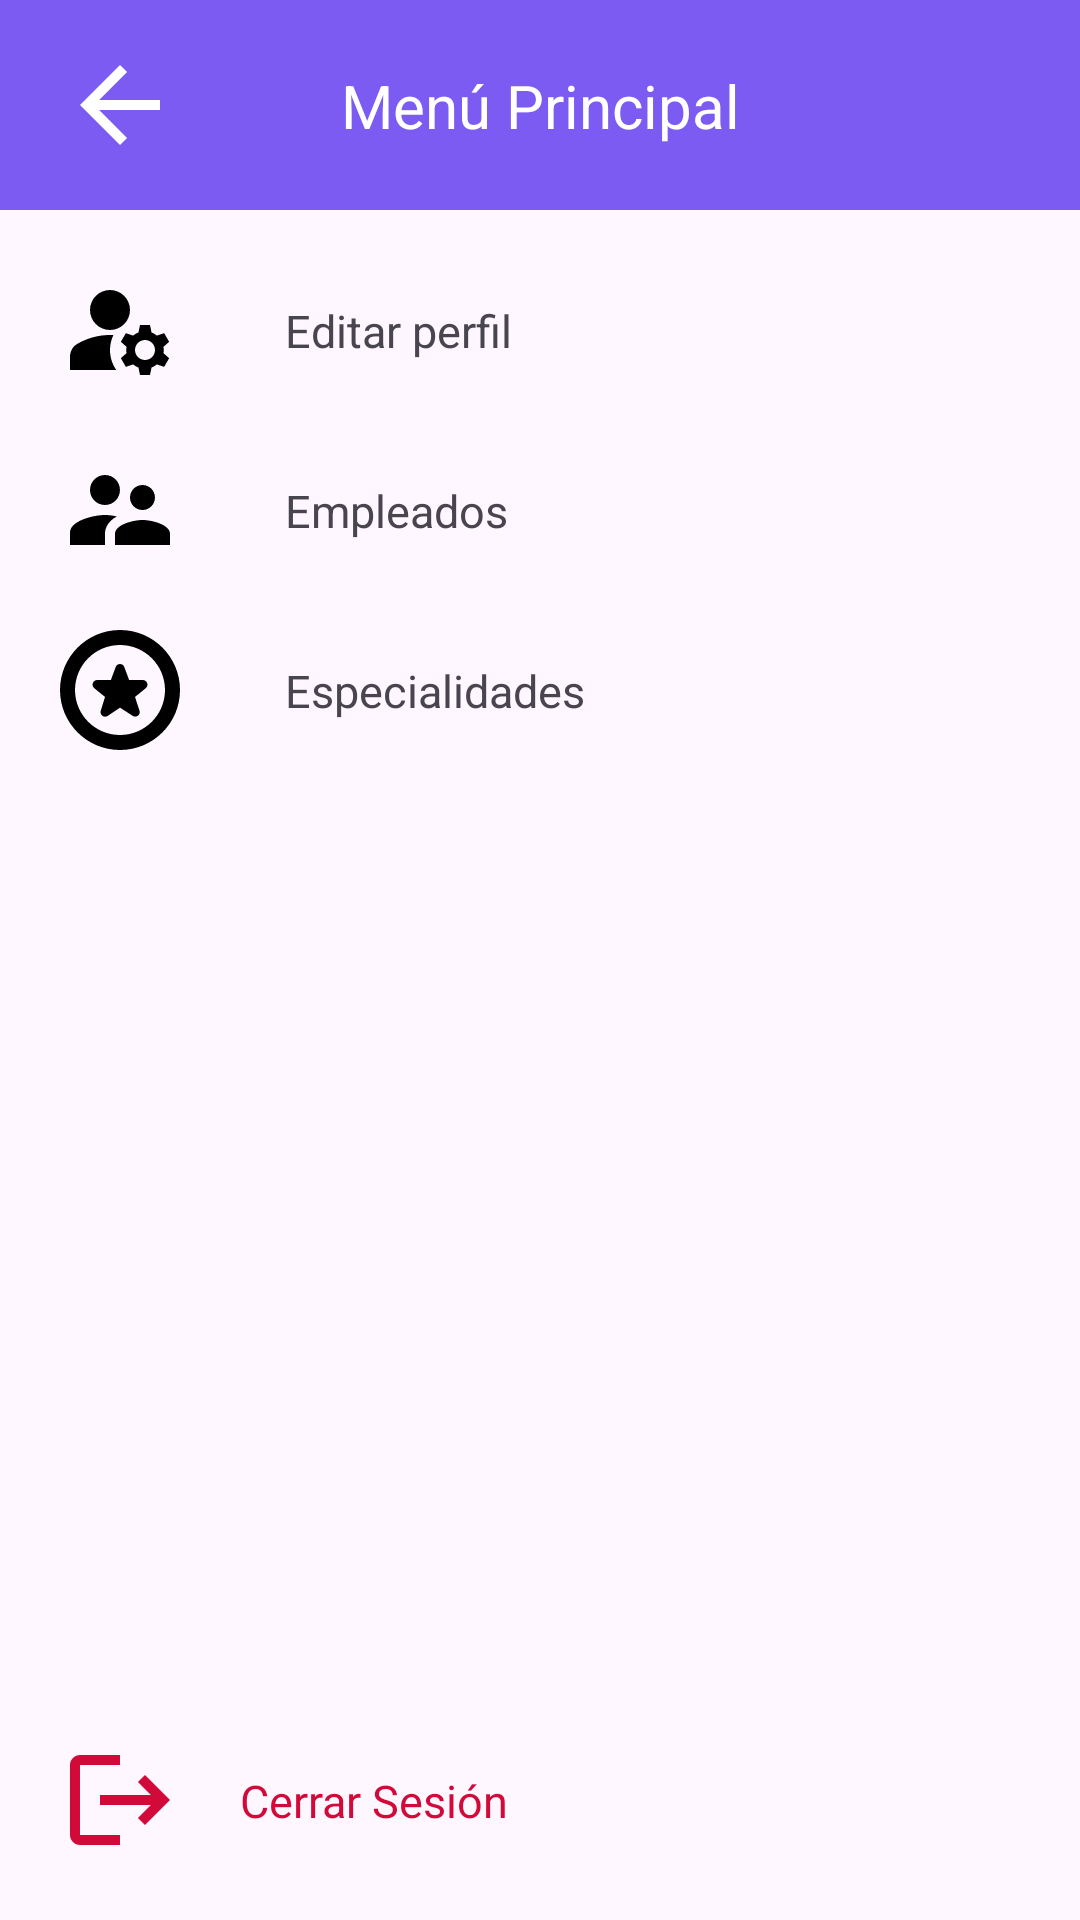

Icon bounding boxes for this 1080 x 1920 phone screenshot, format (x1, y1, x2, y2):
back arrow: (80, 65, 160, 145)
employees: (70, 475, 170, 545)
manage acc: (70, 290, 169, 375)
specialities: (60, 630, 180, 750)
